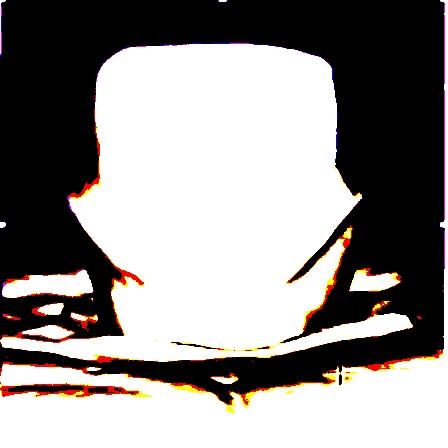coin_1: (89, 167, 109, 187)
coin_2: (93, 93, 113, 113)
coin_3: (346, 171, 366, 191)
coin_4: (336, 89, 356, 109)
